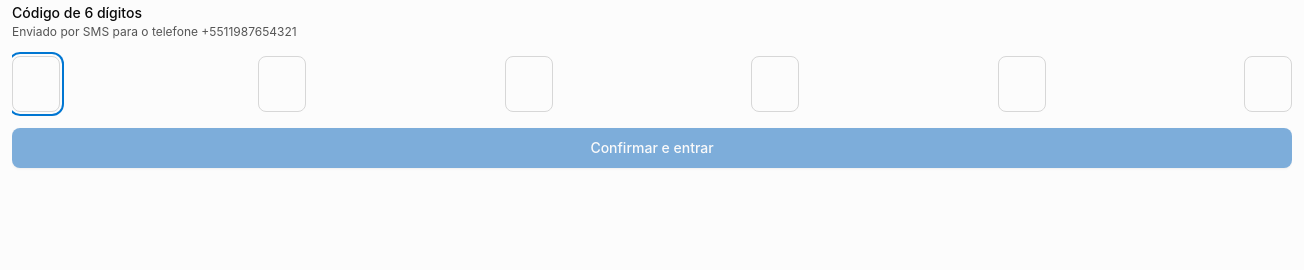
Test: VerificarOtpForm (Integração de Tela) › IT-07: Erro RFC 7807 de Código Inválido (HTTP 401)
Type keys "000000"
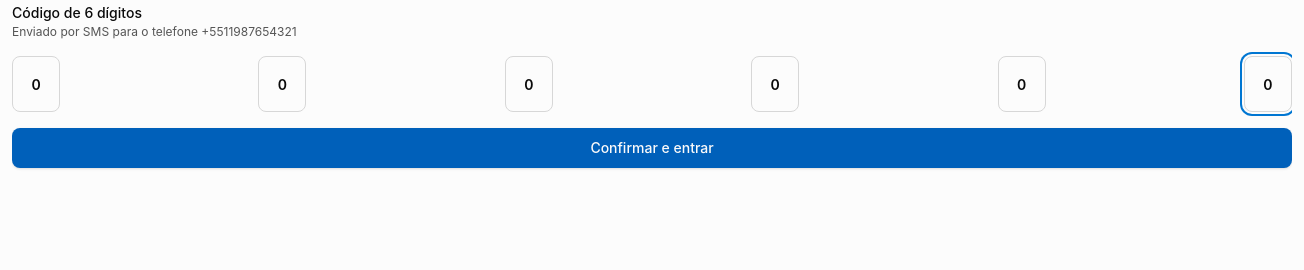
Click the button "Confirmar e entrar" at x=652, y=148, box [12,128,1292,168]
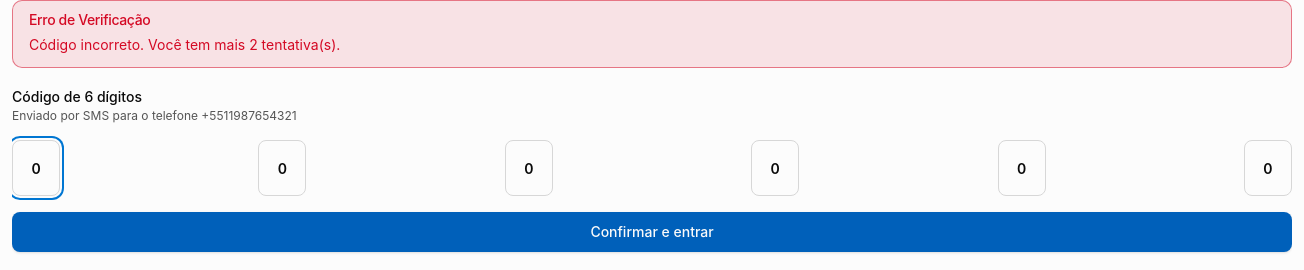
Expected: the text "Código incorreto. Você tem mais 2 tentativa(s)." is shown, [29,35,340,55]
